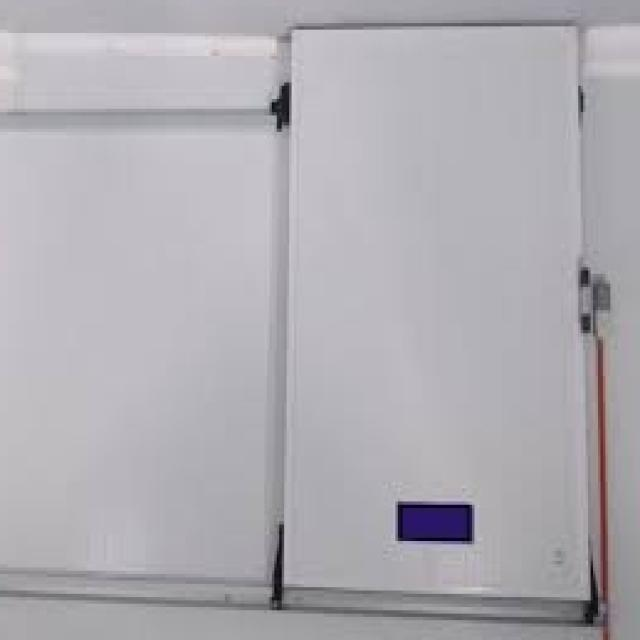door: (283, 23, 592, 604)
